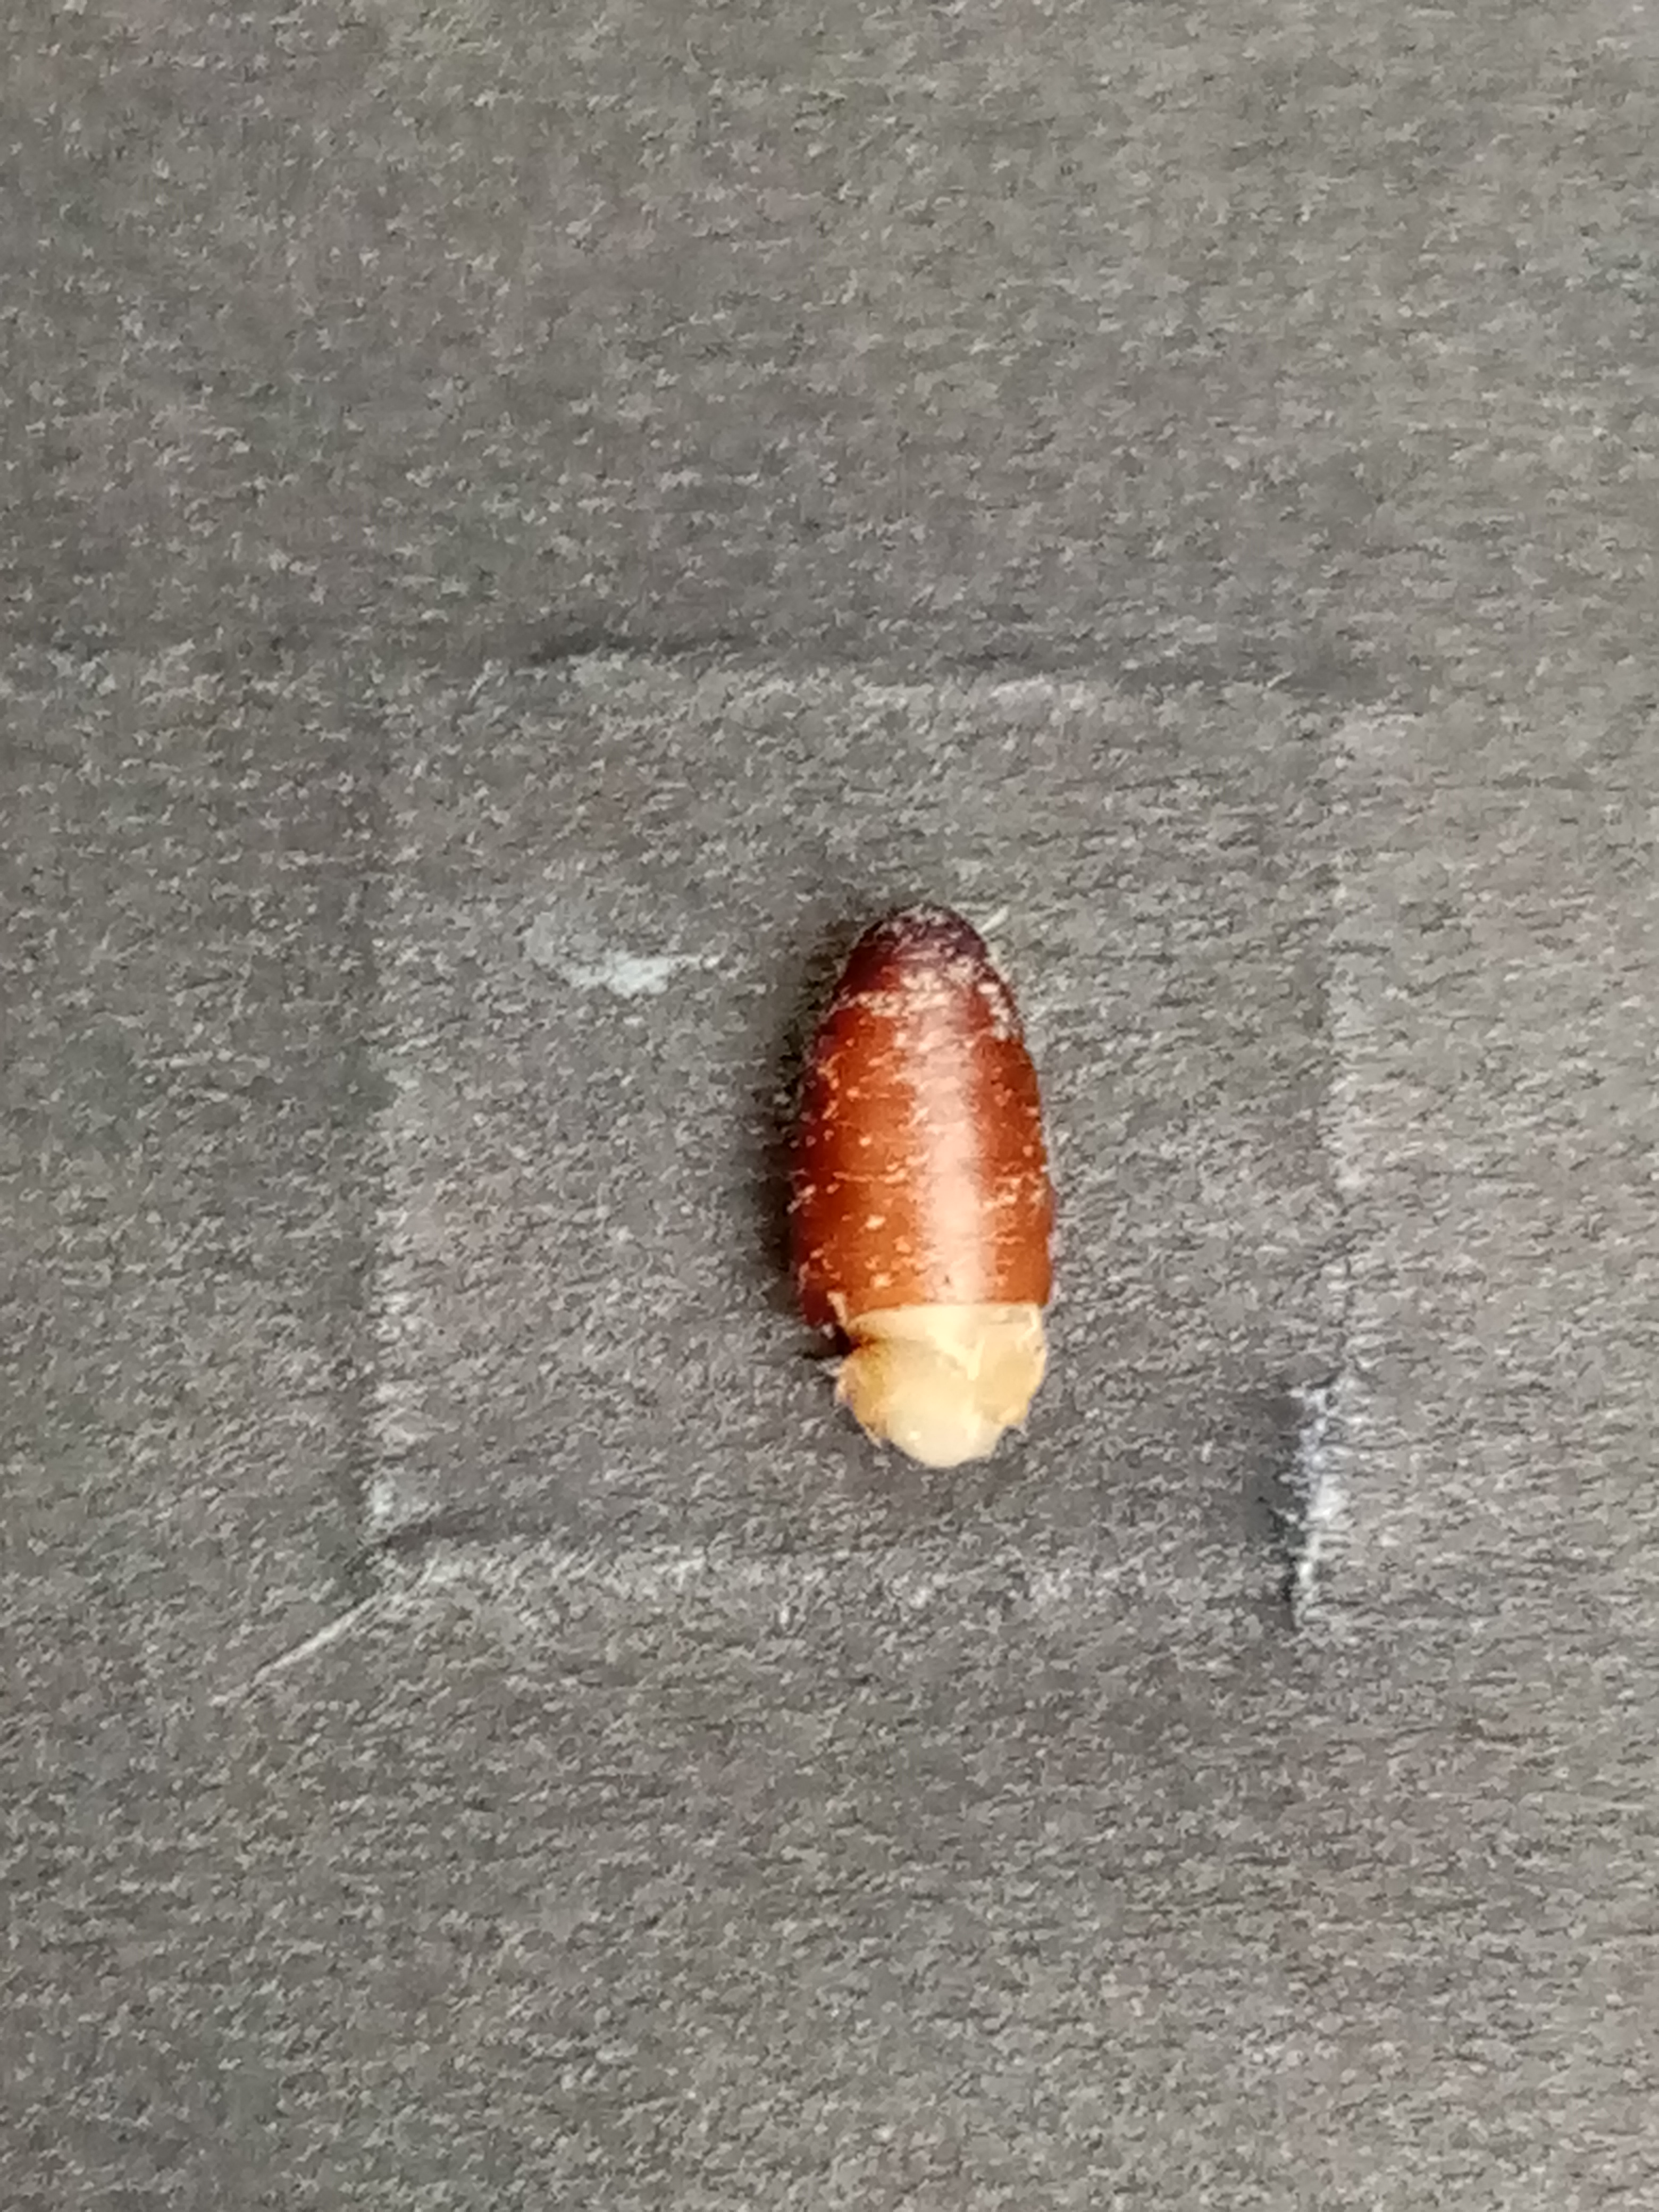pupa: (828, 1324, 1054, 1474)
